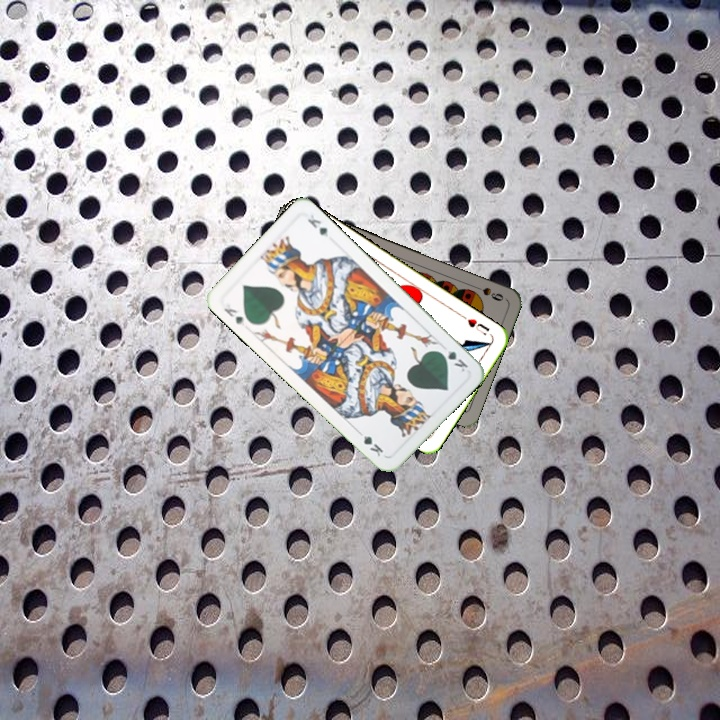GK: (434, 341, 471, 375), (219, 298, 247, 329)
HU: (463, 314, 492, 338)
S9: (468, 281, 506, 304)
